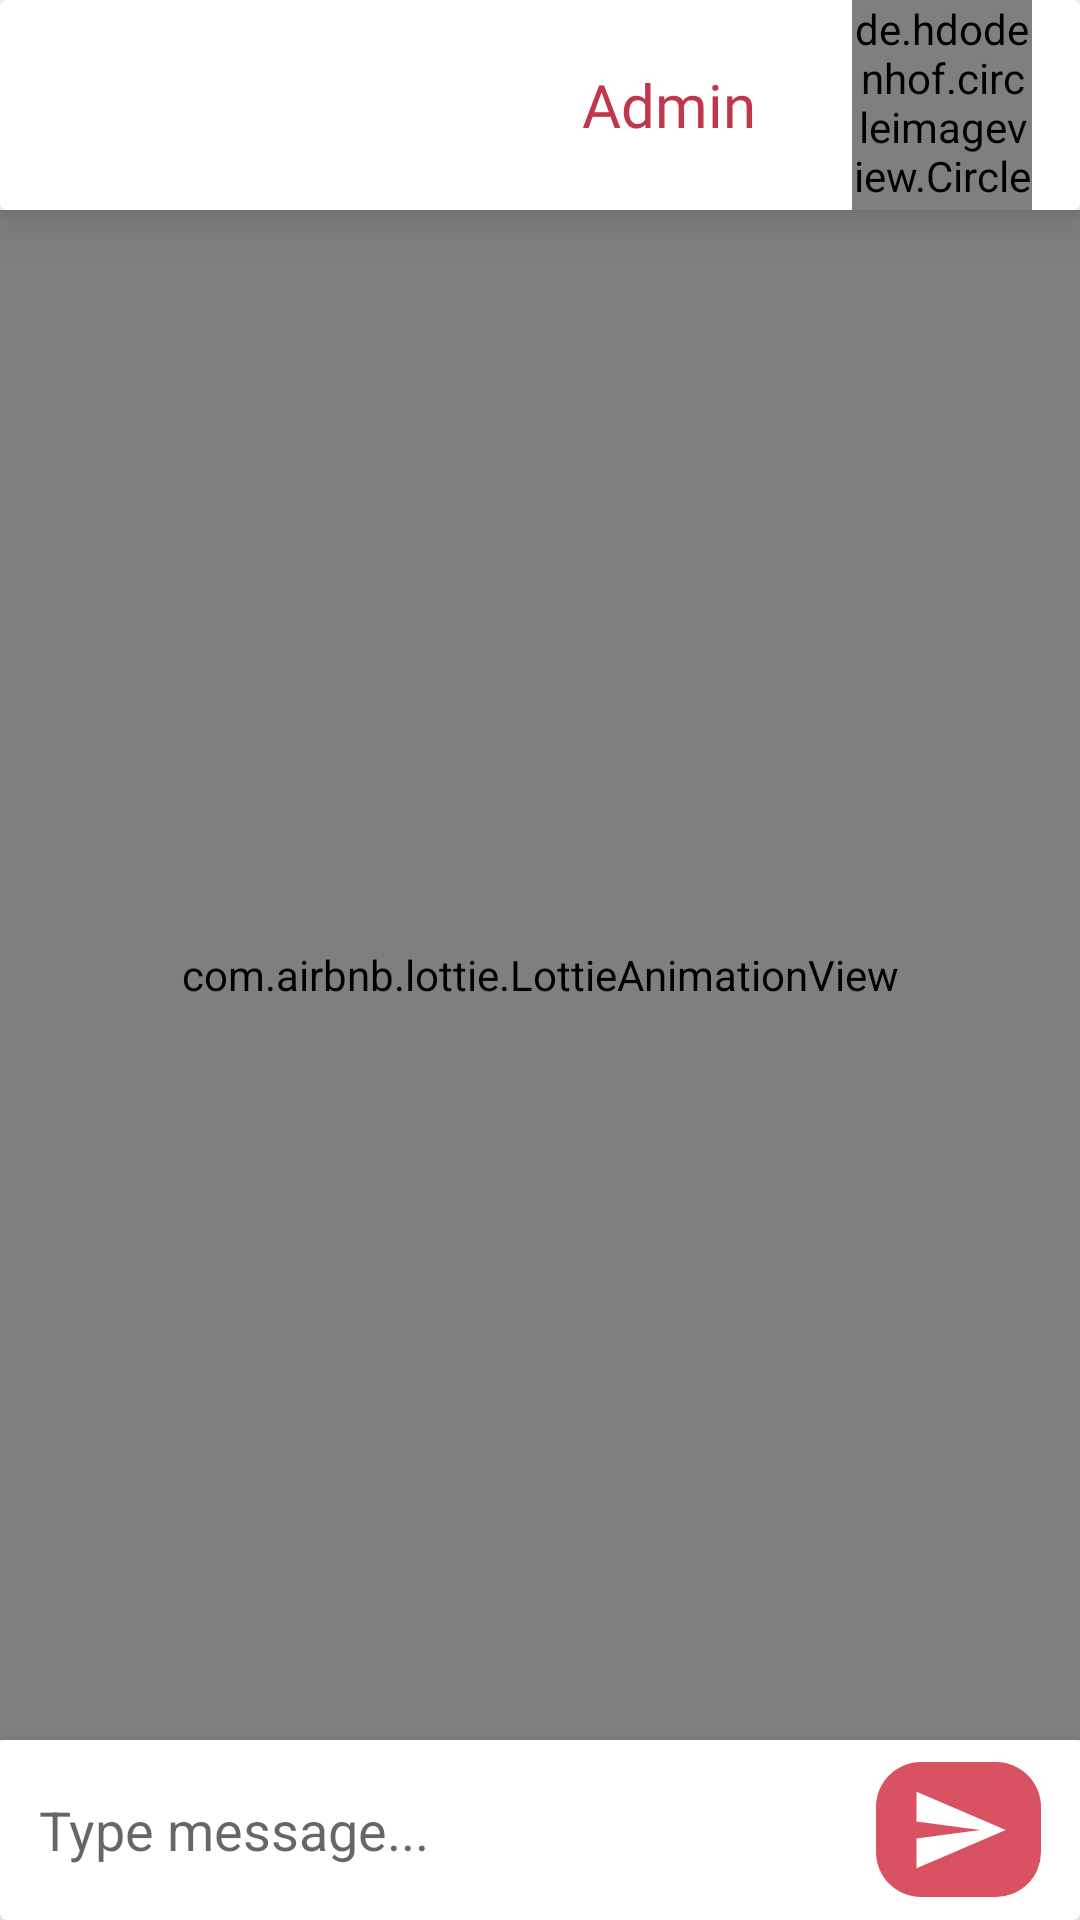

Screen size 1080 × 1920. Icon name, then its box in pixels as BBox(x1, y1, x2, y2):
send: BBox(876, 1762, 1041, 1897)
